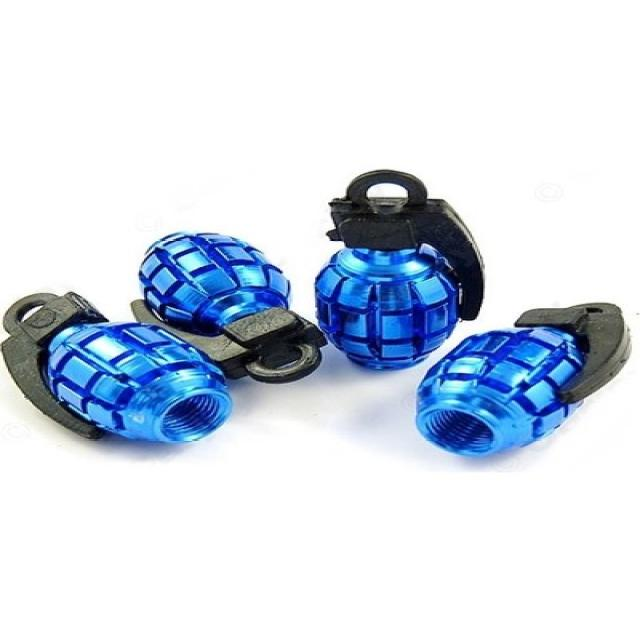grenade: (1, 289, 235, 448), (410, 299, 637, 460), (313, 169, 490, 372), (137, 227, 333, 386)
